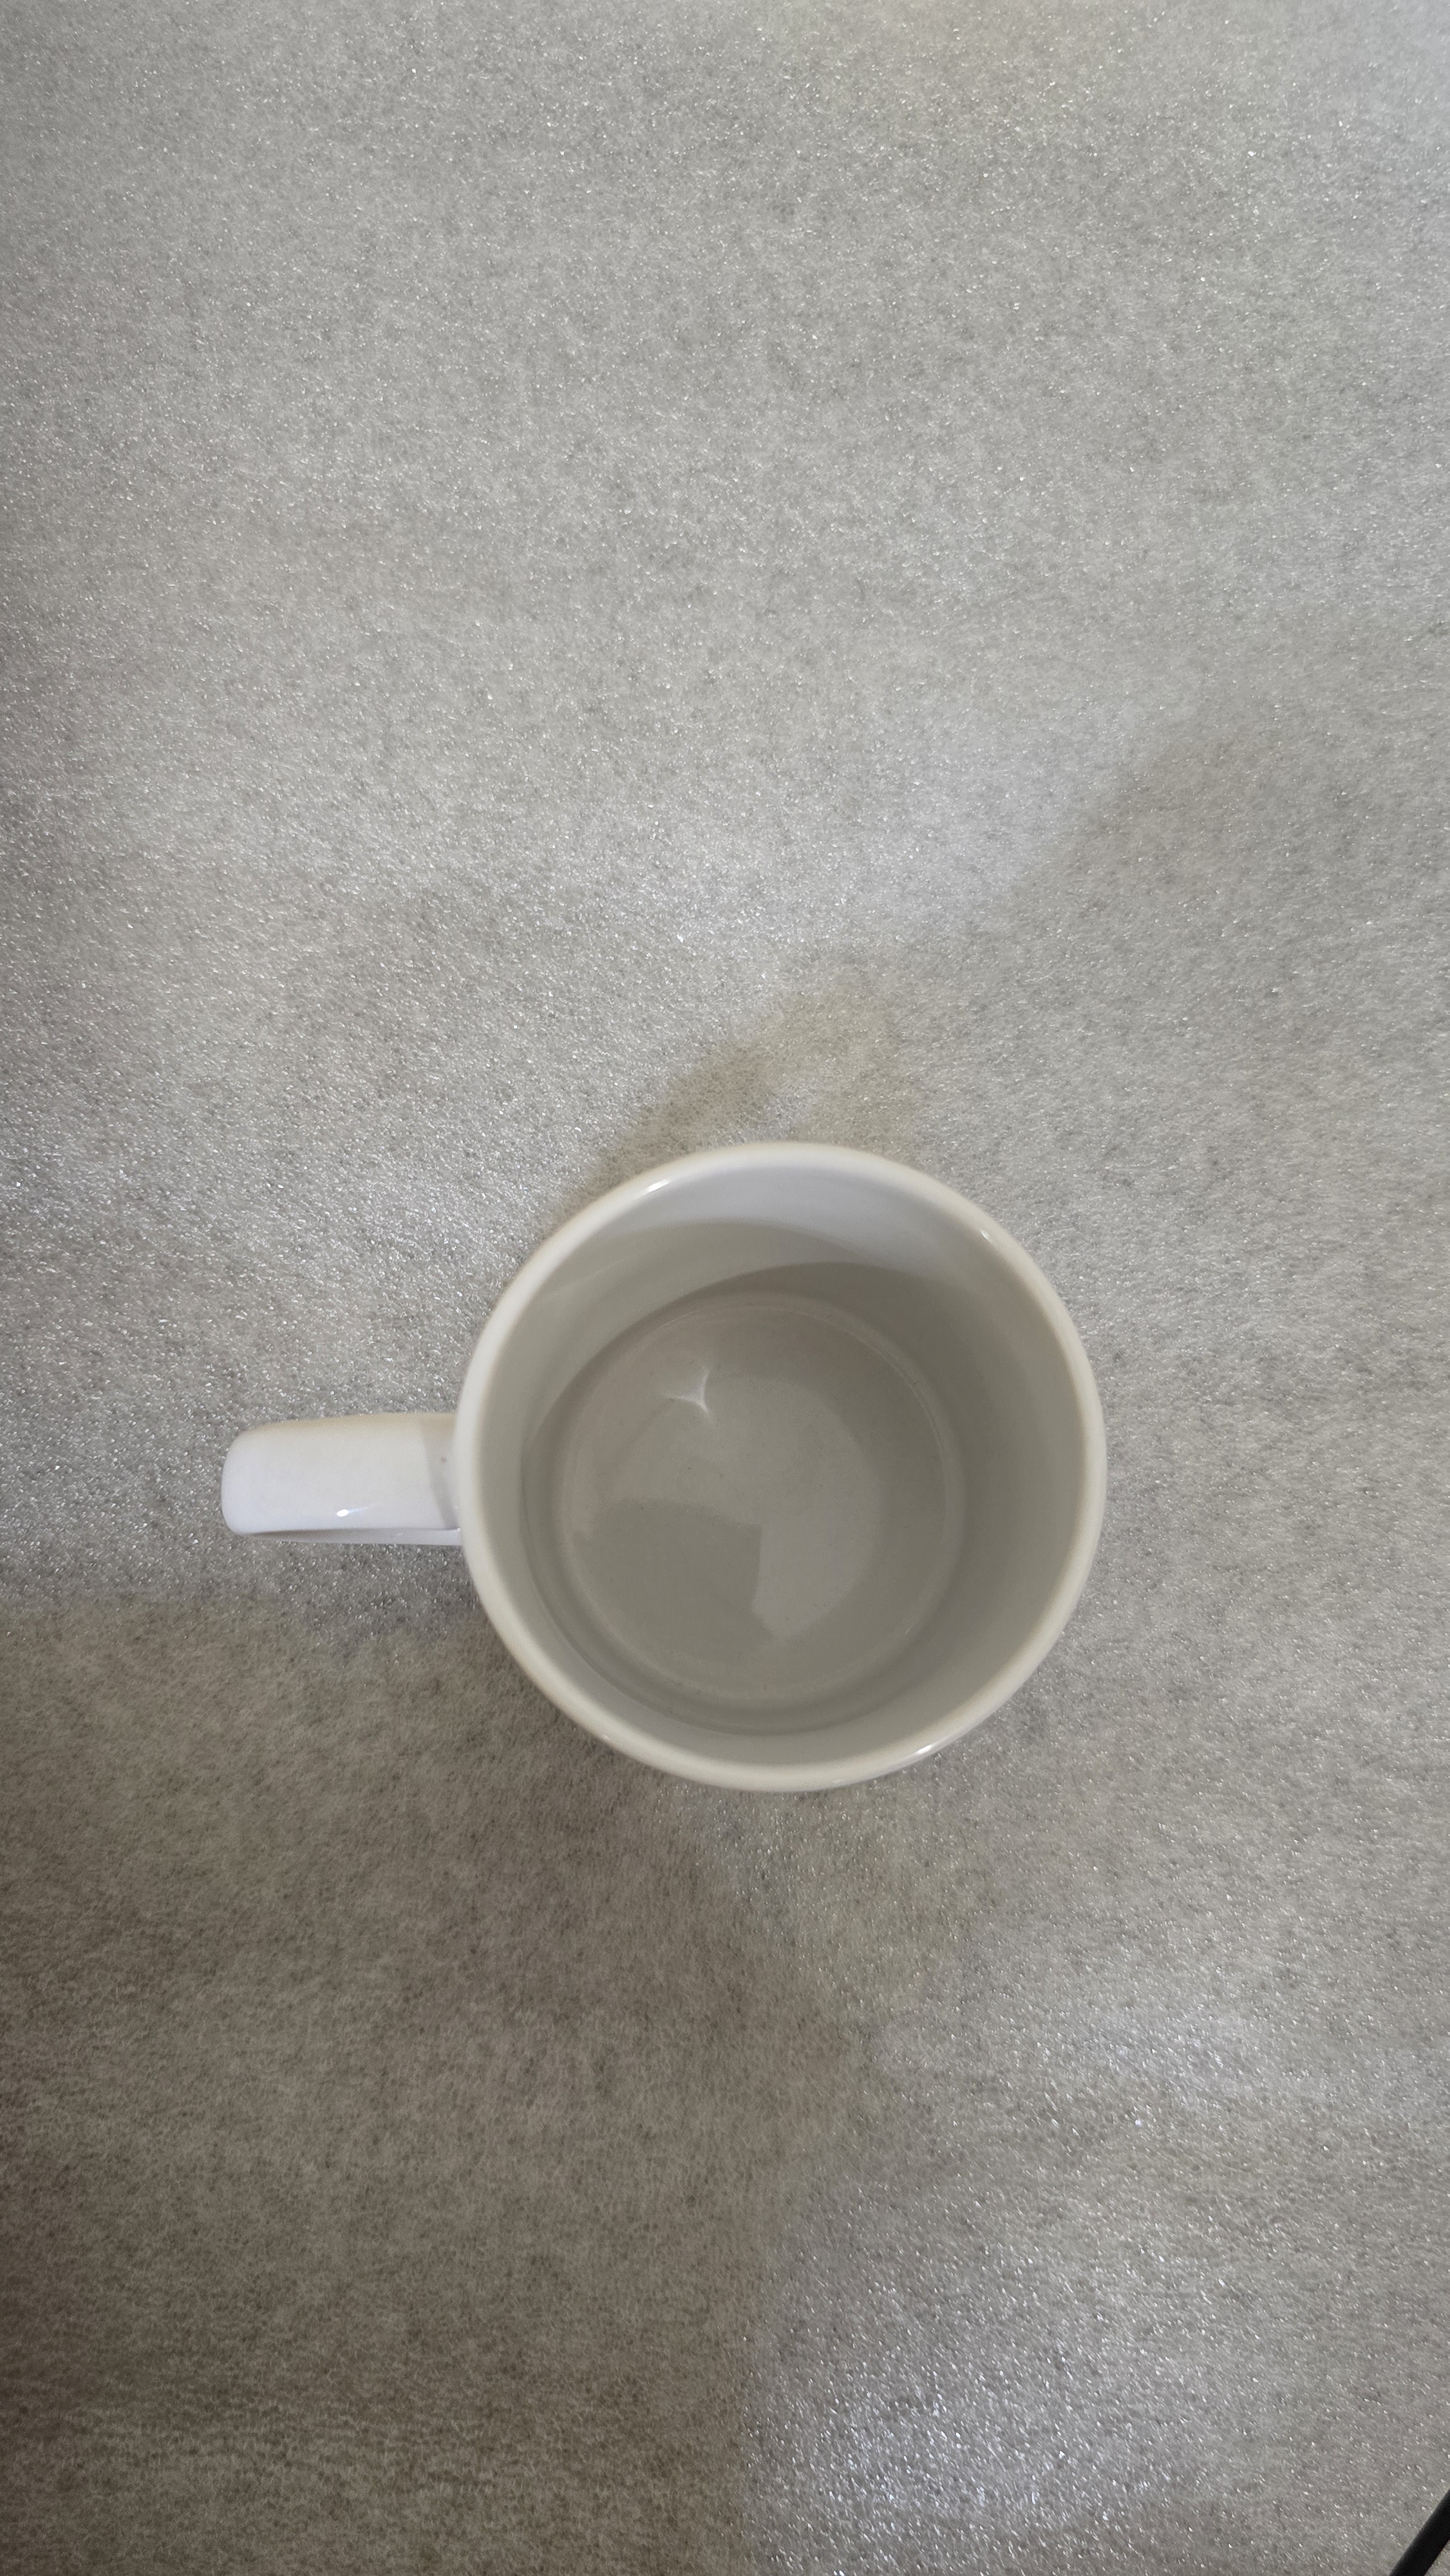mug: (189, 1116, 1236, 1851)
